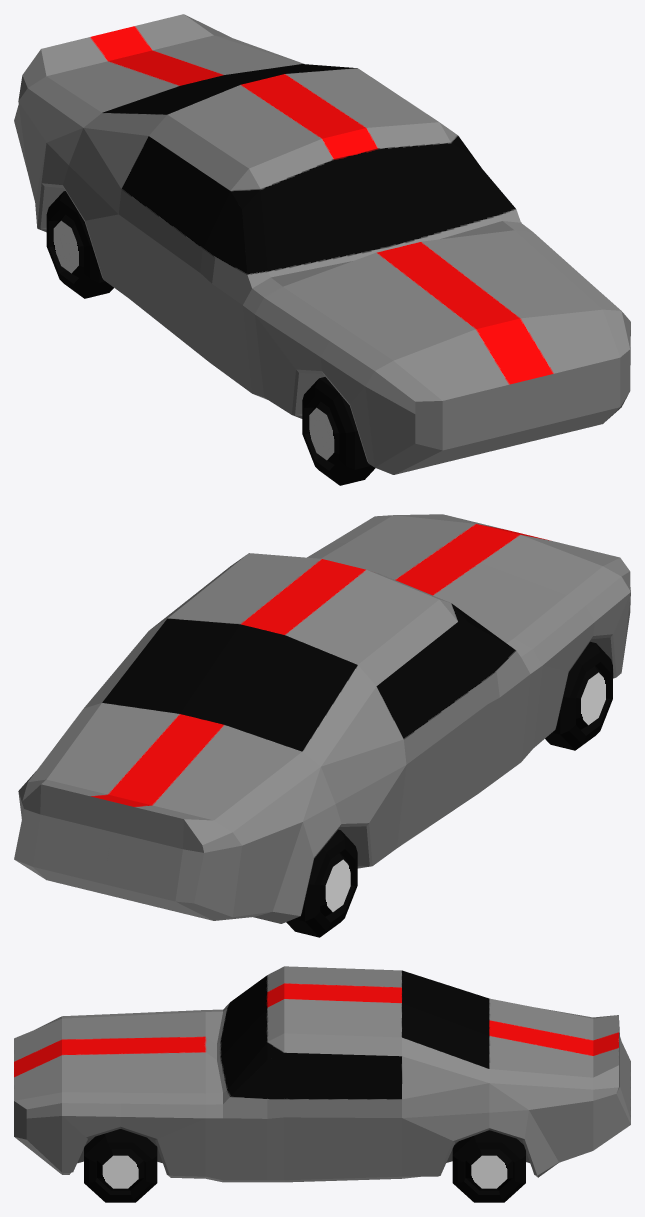
Rendered from MCCar.fbx.
3 renders of one model, top to bottom at view 1: azimuth 30°, elevation 25°; view 2: azimuth 150°, elevation 25°; view 3: azimuth 270°, elevation 25°, orthographic. The views are drawn at different scales.
Parts seen in each view (by area): view 1: MCCar, WheelBasic.002, WheelBasic.004; view 2: MCCar, WheelBasic.002, WheelBasic.004; view 3: MCCar, WheelBasic.001, WheelBasic.003.
Boxes of the visible parts, left/top/right/bottom form: MCCar: left=14, top=14, right=630, bottom=474; WheelBasic.002: left=302, top=377, right=375, bottom=485; WheelBasic.004: left=46, top=191, right=113, bottom=298; MCCar: left=14, top=514, right=630, bottom=923; WheelBasic.002: left=545, top=641, right=612, bottom=750; WheelBasic.004: left=286, top=829, right=357, bottom=937; MCCar: left=14, top=966, right=630, bottom=1182; WheelBasic.001: left=84, top=1129, right=157, bottom=1202; WheelBasic.003: left=452, top=1130, right=525, bottom=1202.
Size of the model in its own units: 1.91 by 4.91 by 1.46.
Materials: 2 (2 with a texture image).
